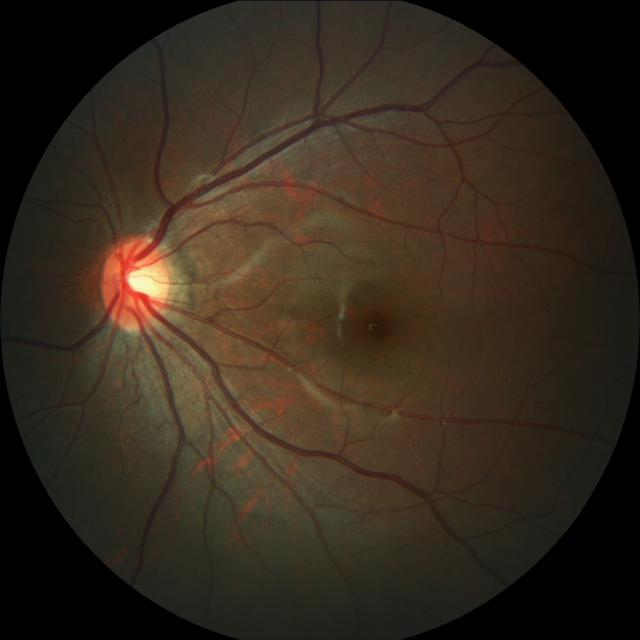OC: (118, 259, 161, 304)
OD: (99, 236, 170, 330)
